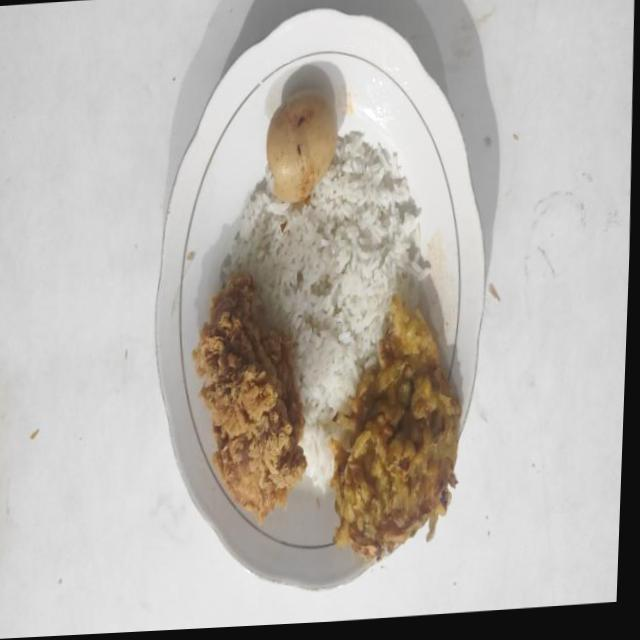nasi_putih: (221, 130, 428, 492)
